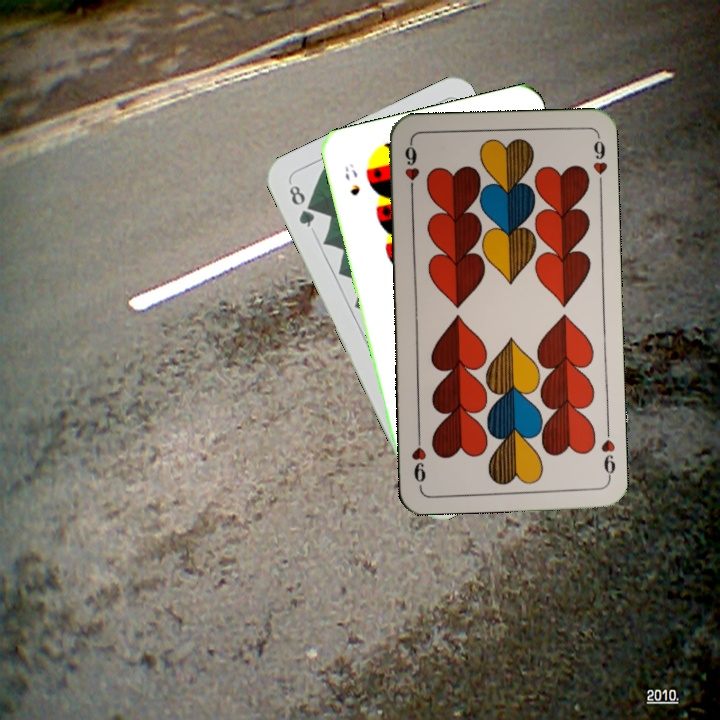G8: (284, 181, 318, 230)
H9: (597, 423, 619, 482), (401, 139, 422, 198)
S8: (340, 159, 363, 198)
